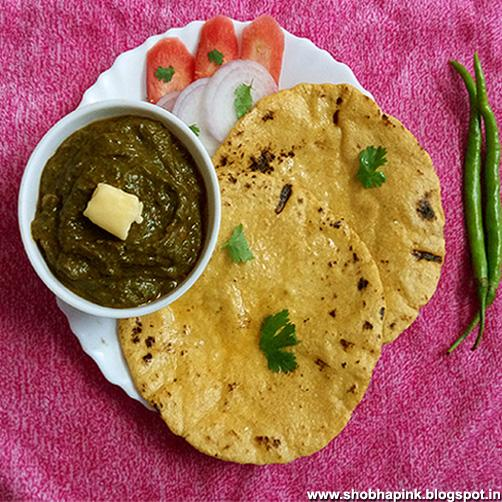saag: (38, 113, 203, 310)
